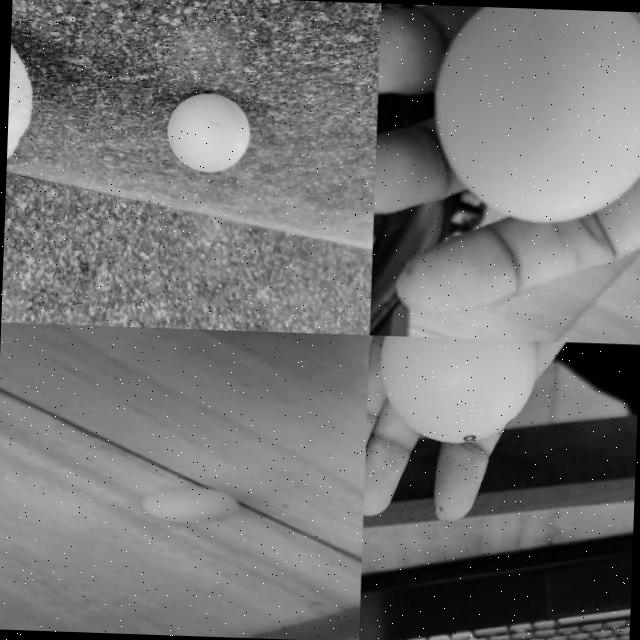ping-pong-ball: (430, 4, 640, 227), (376, 336, 534, 447), (166, 90, 254, 172), (142, 486, 237, 524)
